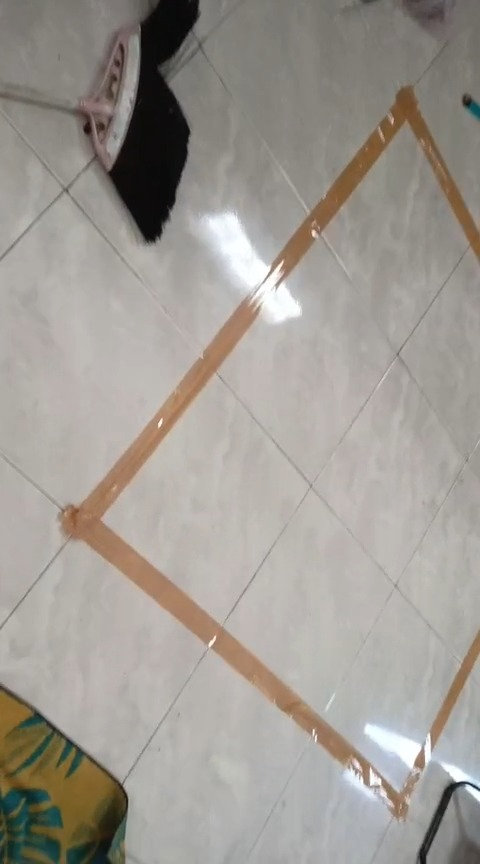floor marking: (62, 87, 479, 818)
